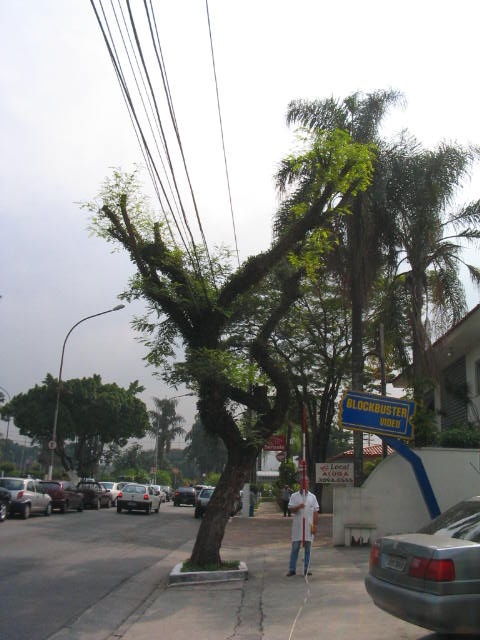stem: (183, 445, 262, 565)
stick: (293, 404, 319, 576)
tree: (78, 133, 371, 568), (3, 375, 151, 479), (147, 394, 186, 471)
